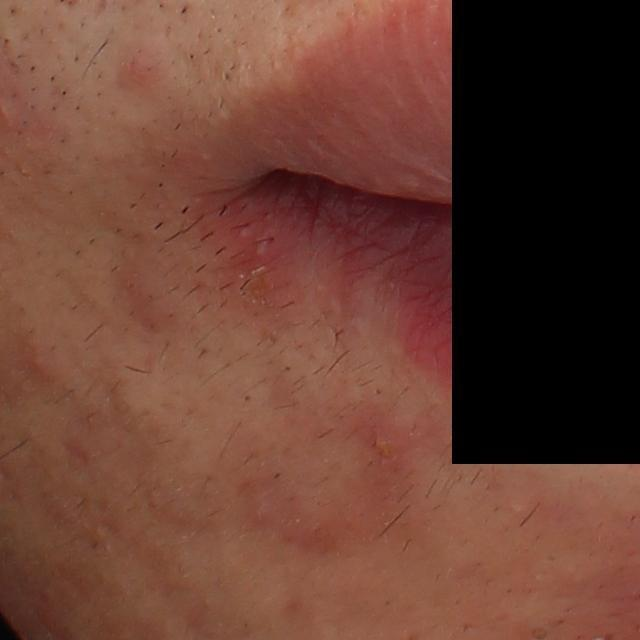papule: (17, 334, 67, 379), (364, 415, 404, 468), (119, 42, 161, 91)
